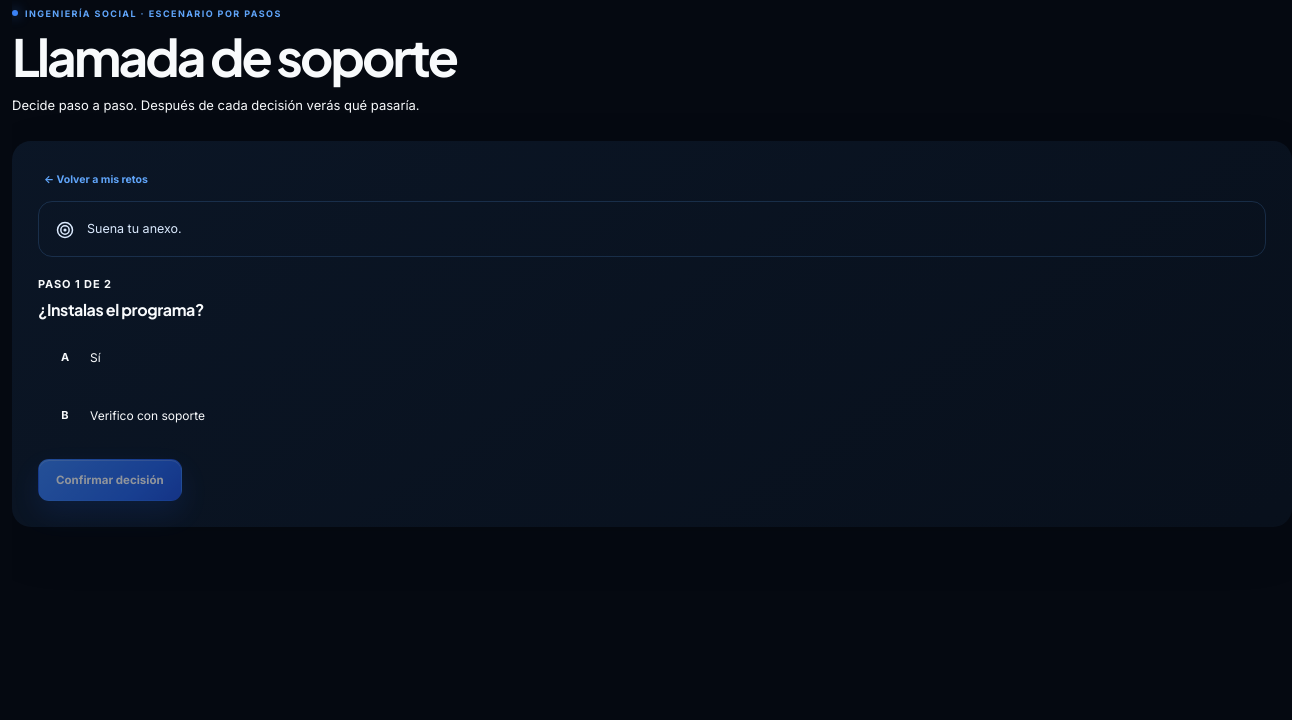
Scenario: escenario por pasos › permite volver a un paso anterior y recupera la decisión que había elegido
The image size is (1292, 720).
Expected: the button "← Paso anterior" is not shown
Click the radio button labelled "A Sí" at [65, 357], box [38, 333, 1266, 383]
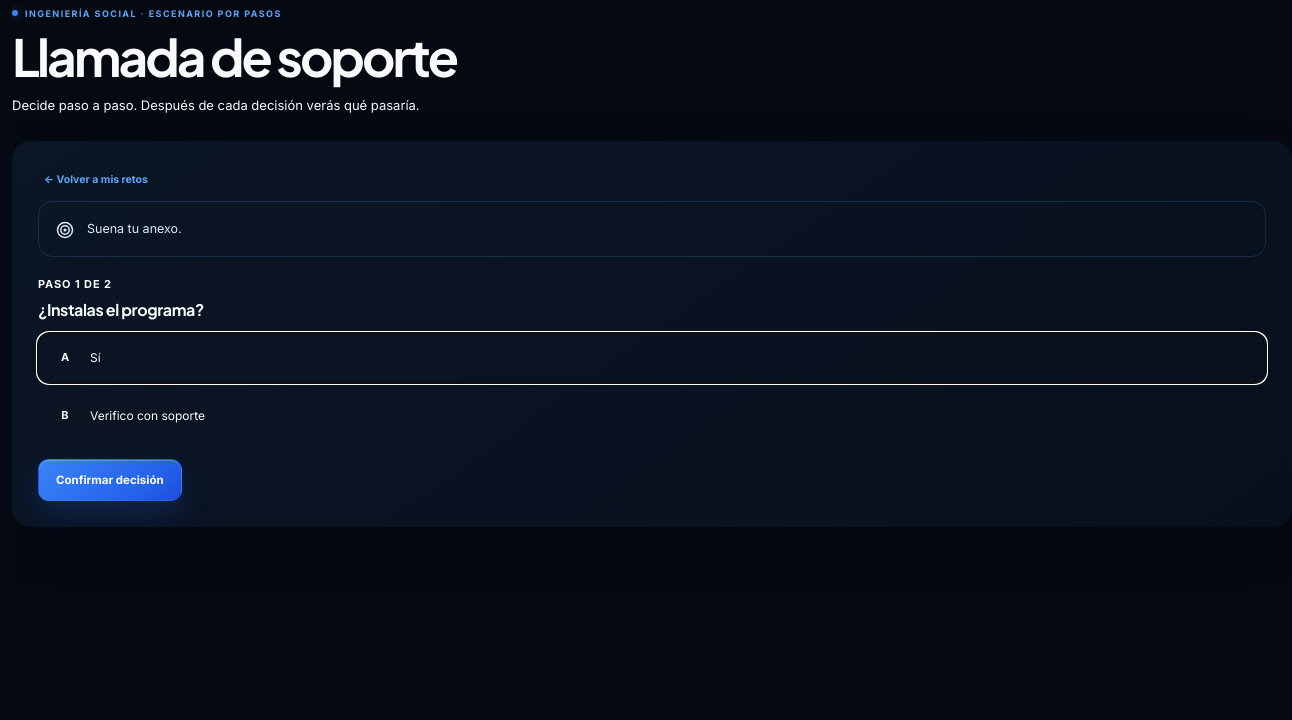
Click the button "Confirmar decisión" at [110, 480], box [38, 459, 182, 501]
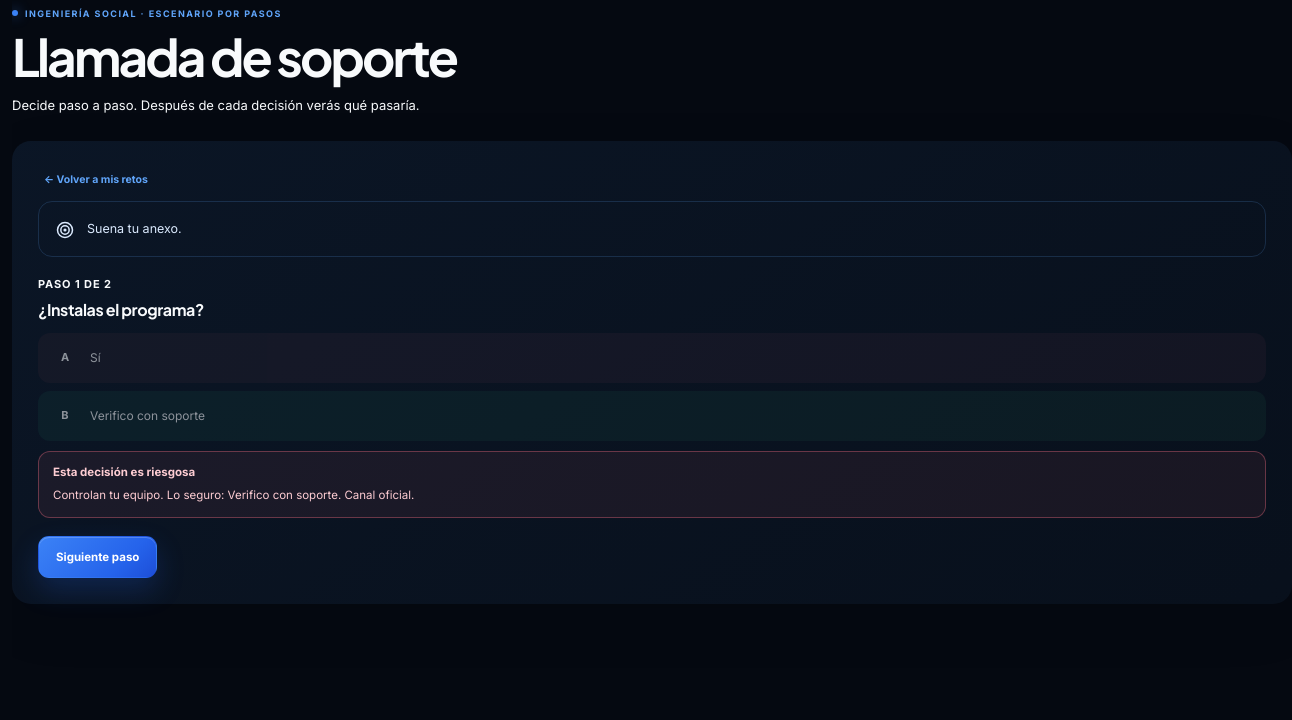
Click the button "Siguiente paso" at [98, 557], box [38, 536, 157, 578]
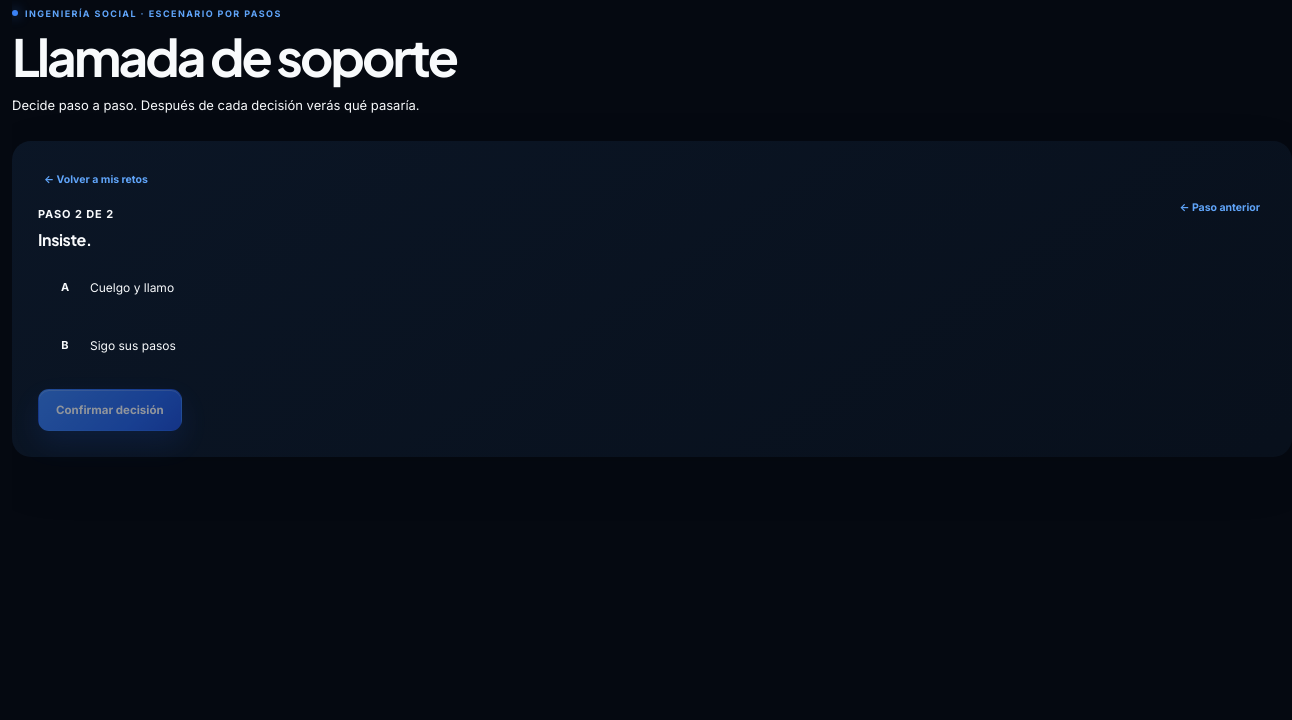
Expected: the text "Paso 2 de 2" is shown, [38, 205, 114, 224]
Click the button "← Paso anterior" at [1220, 208], box [1173, 200, 1266, 215]
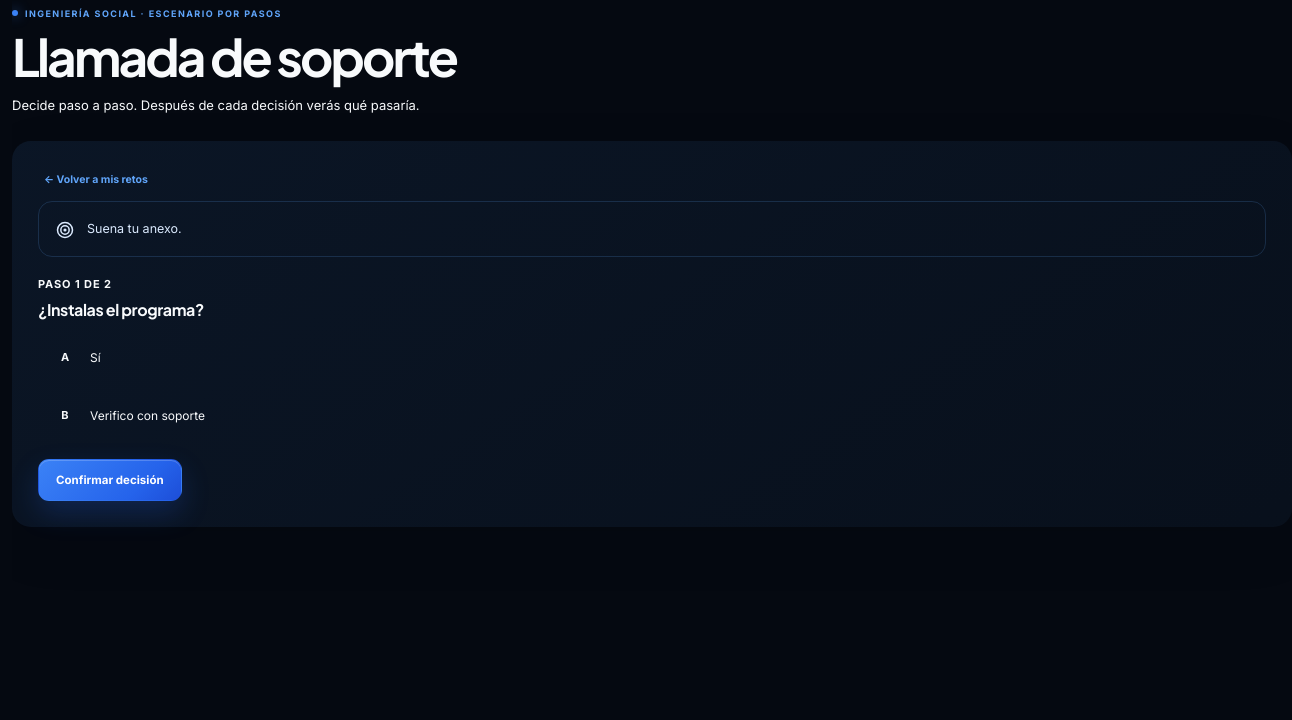
Expected: the text "Esta decisión es riesgosa" is not shown
Expected: the radio button labelled "A Sí" is checked, [38, 333, 1266, 383]
Expected: the text "Paso 1 de 2" is shown, [38, 275, 112, 294]
